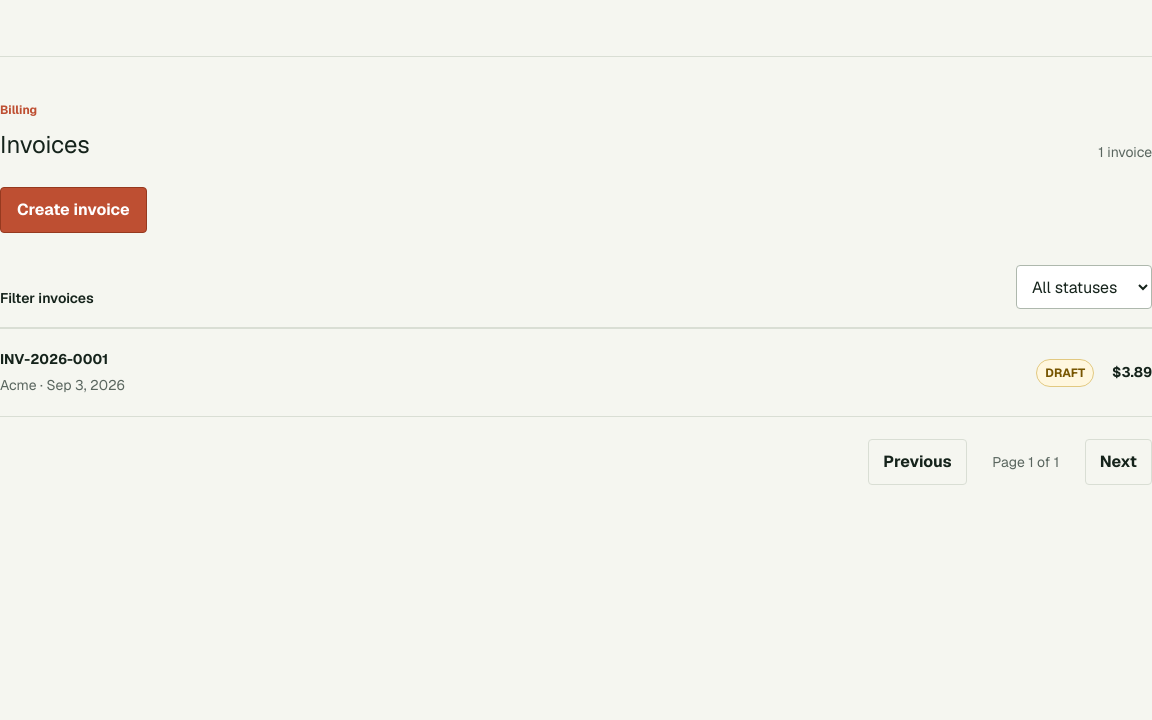
Test: InvoicesScreen › uses the returned invoice version for the next status action
Click the button "INV-2026-0001 Acme · Sep 3, 2026 DRAFT $3.89".
click(54, 359)  # box [0, 329, 1151, 417]
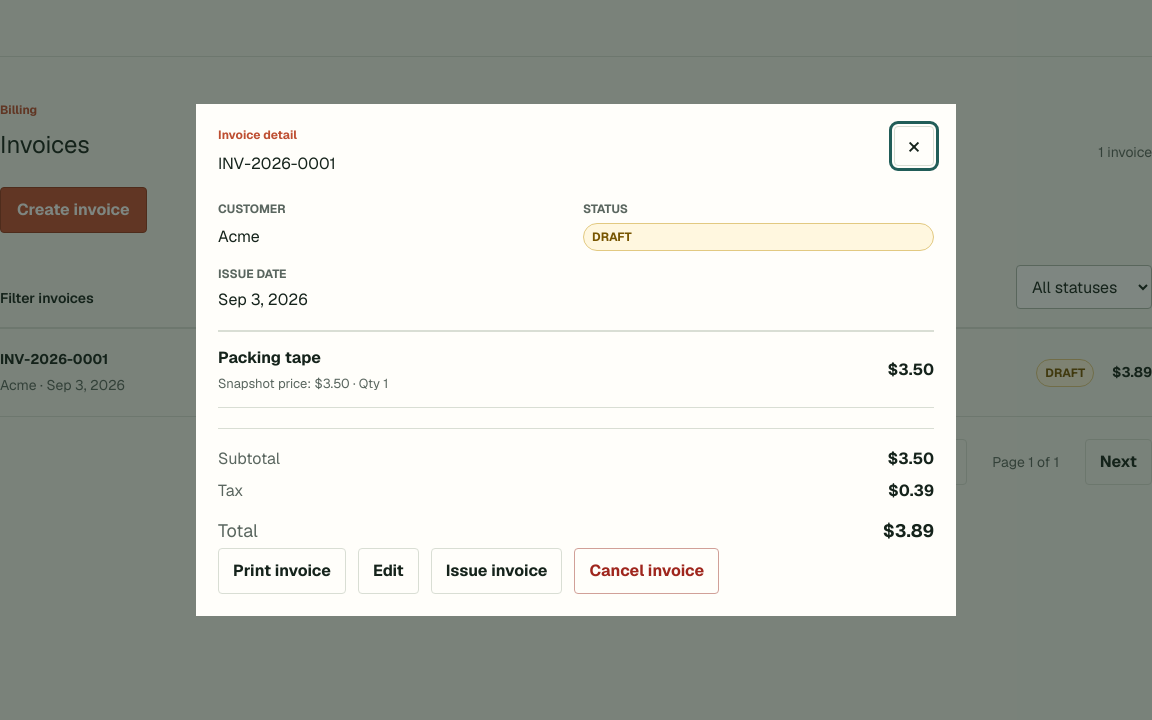
Click the button "Issue invoice".
click(497, 571)  # box [431, 548, 562, 594]
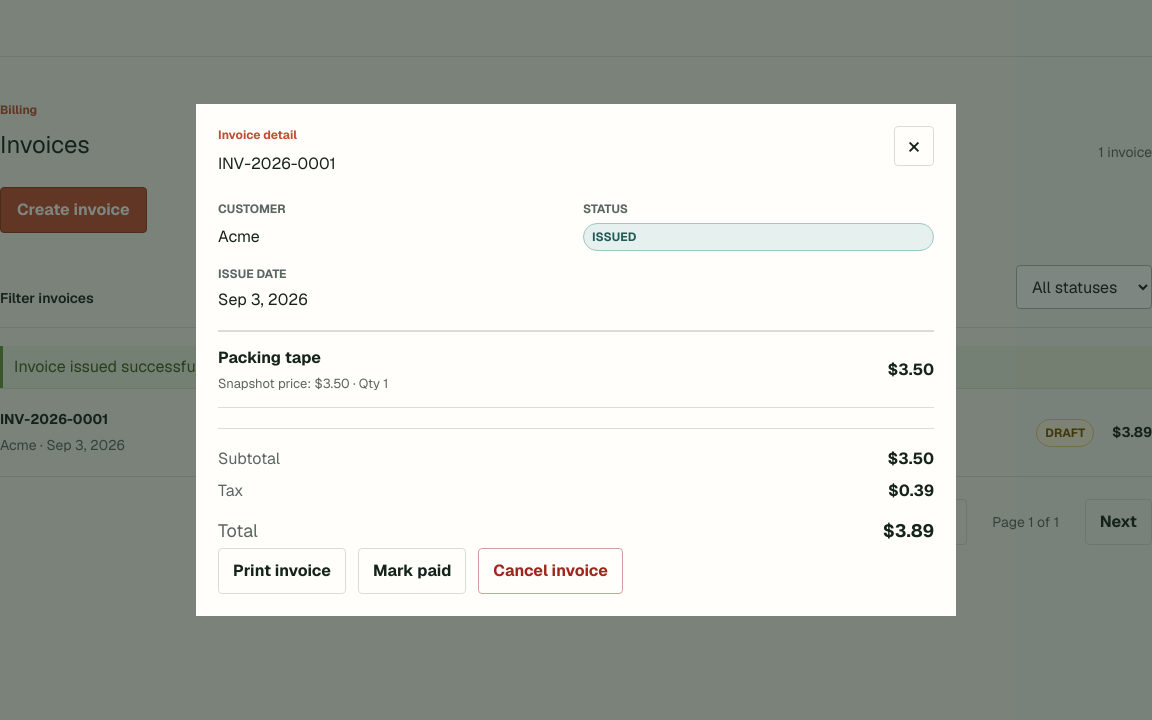
Click the button "Cancel invoice".
click(551, 571)  # box [478, 548, 623, 594]
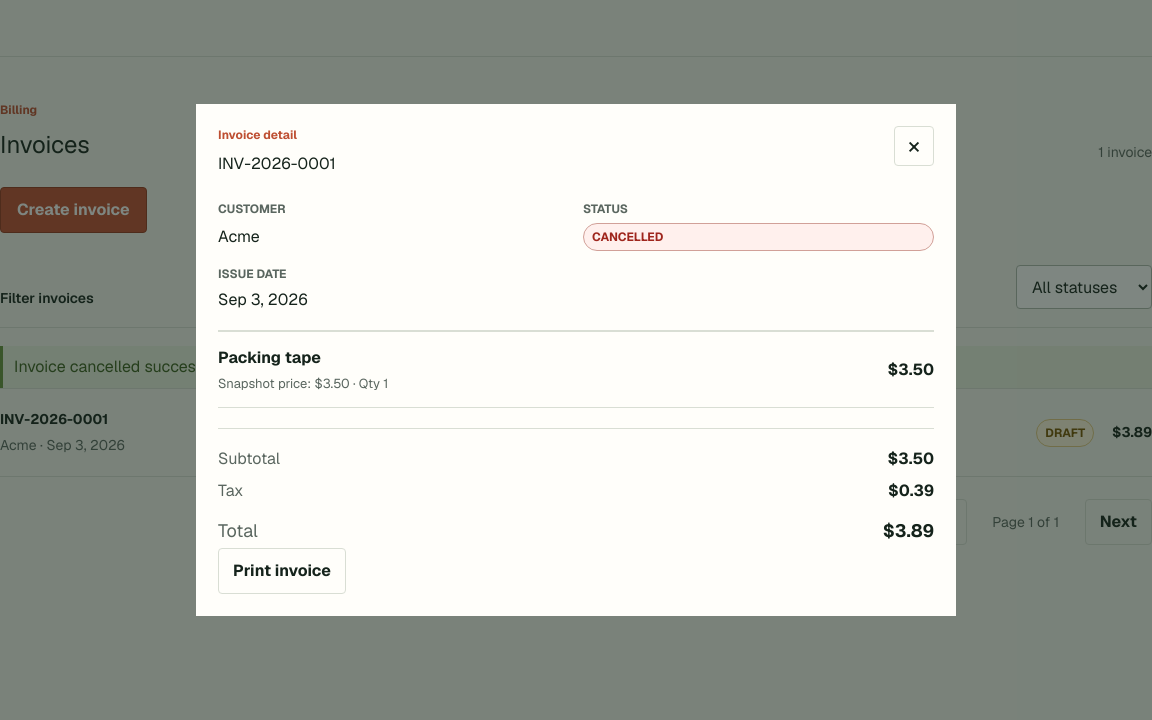
Check: the text "CANCELLED" is shown, box [583, 223, 934, 251]
